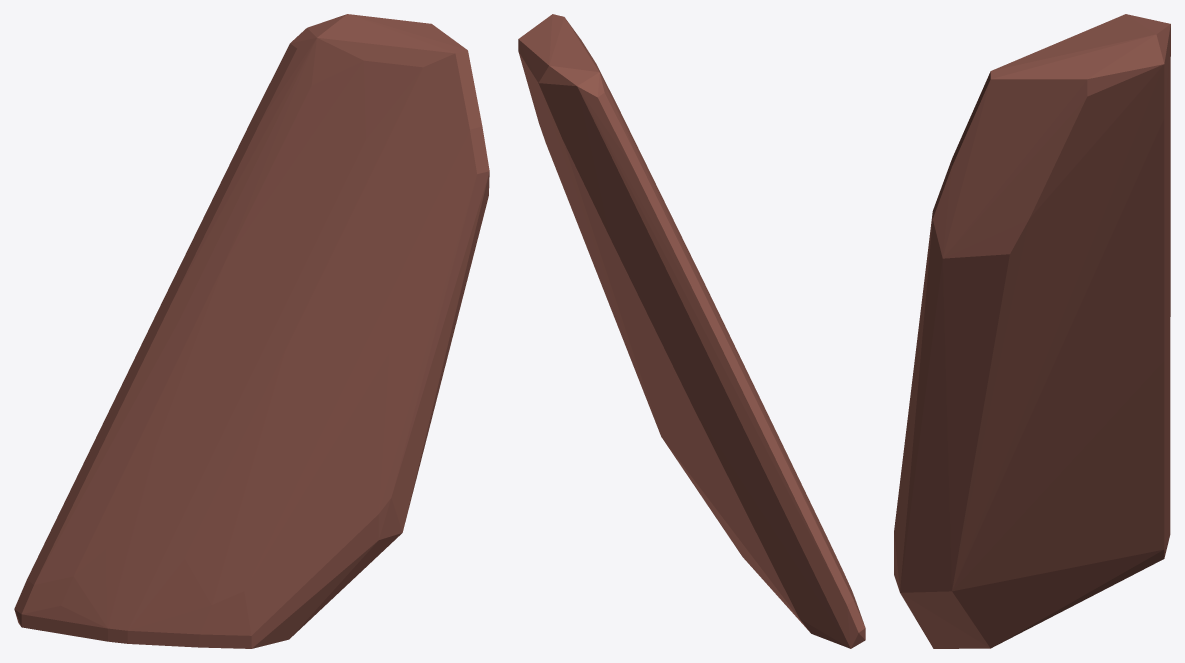
Rendered from mouth_cup005.obj.
The picture shows the model from 3 angles, left to right: view 1: azimuth 30°, elevation 25°; view 2: azimuth 150°, elevation 25°; view 3: azimuth 270°, elevation 25°; orthographic projection. The views are drawn at different scales.
Visible parts, largest first — view 1: mouth_cup005; view 2: mouth_cup005; view 3: mouth_cup005.
Part boxes in pixels (<box>): mouth_cup005: <box>14,14,489,648</box>; mouth_cup005: <box>518,14,865,648</box>; mouth_cup005: <box>894,14,1170,648</box>.
Bounding box in the file's own units: 0.1871 × 0.2436 × 0.0859.
